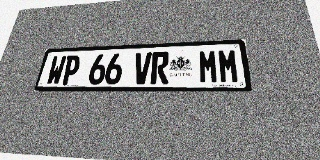6: (87, 54, 108, 85), (104, 53, 124, 85)
M: (217, 49, 240, 83), (198, 50, 219, 84)
P: (60, 55, 81, 85)
R: (150, 51, 169, 84)
V: (132, 52, 152, 84)
W: (45, 56, 67, 85)
